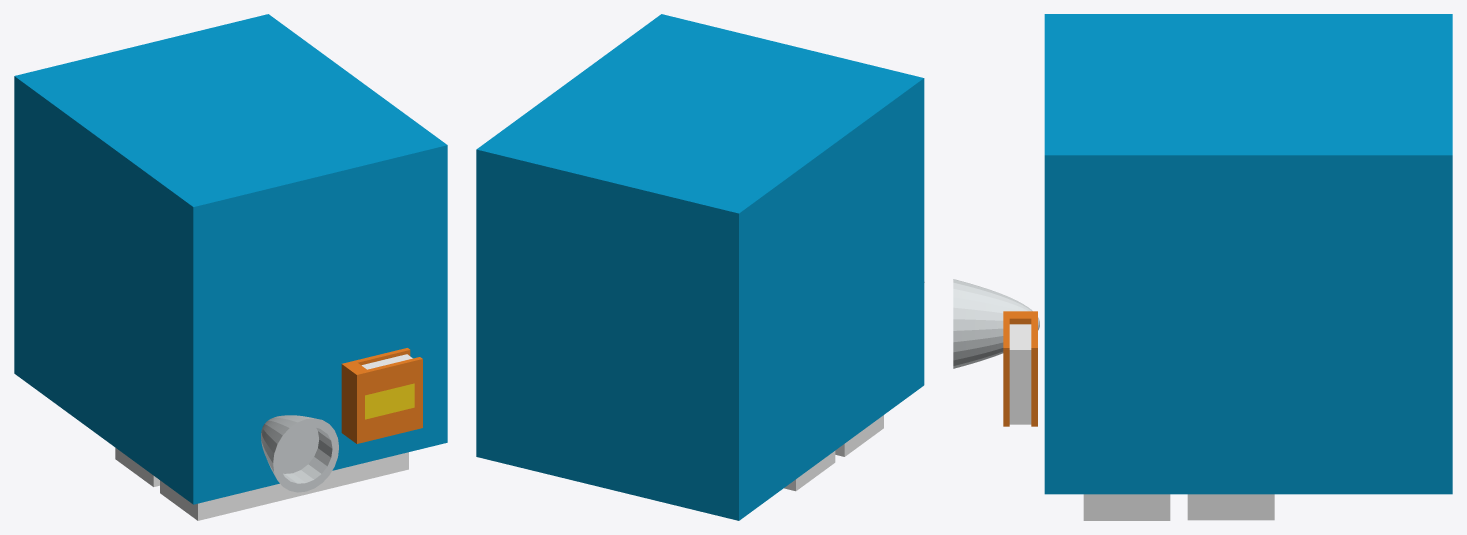
File: tinker.obj
The picture shows the model from 3 angles, left to right: view 1: azimuth 30°, elevation 25°; view 2: azimuth 150°, elevation 25°; view 3: azimuth 270°, elevation 25°; orthographic projection. The views are drawn at different scales.
Visible parts, largest first — view 1: group_0_40919, group_0_16089887, group_0_14541540, group_0_16448250, group_0_16768282; view 2: group_0_40919, group_0_16448250; view 3: group_0_40919, group_0_16448250, group_0_14541540, group_0_16089887.
Boxes of the visible parts, bbox=[...] form: group_0_40919: bbox=[14, 14, 447, 504]; group_0_16089887: bbox=[341, 348, 422, 443]; group_0_14541540: bbox=[261, 415, 338, 492]; group_0_16448250: bbox=[115, 354, 412, 520]; group_0_16768282: bbox=[365, 383, 414, 419]; group_0_40919: bbox=[476, 14, 924, 520]; group_0_16448250: bbox=[784, 415, 883, 491]; group_0_40919: bbox=[1044, 14, 1452, 494]; group_0_16448250: bbox=[1009, 324, 1274, 520]; group_0_14541540: bbox=[953, 279, 1039, 368]; group_0_16089887: bbox=[1003, 311, 1037, 426].
Bounding box in the file's own units: 77 × 101 × 115.
